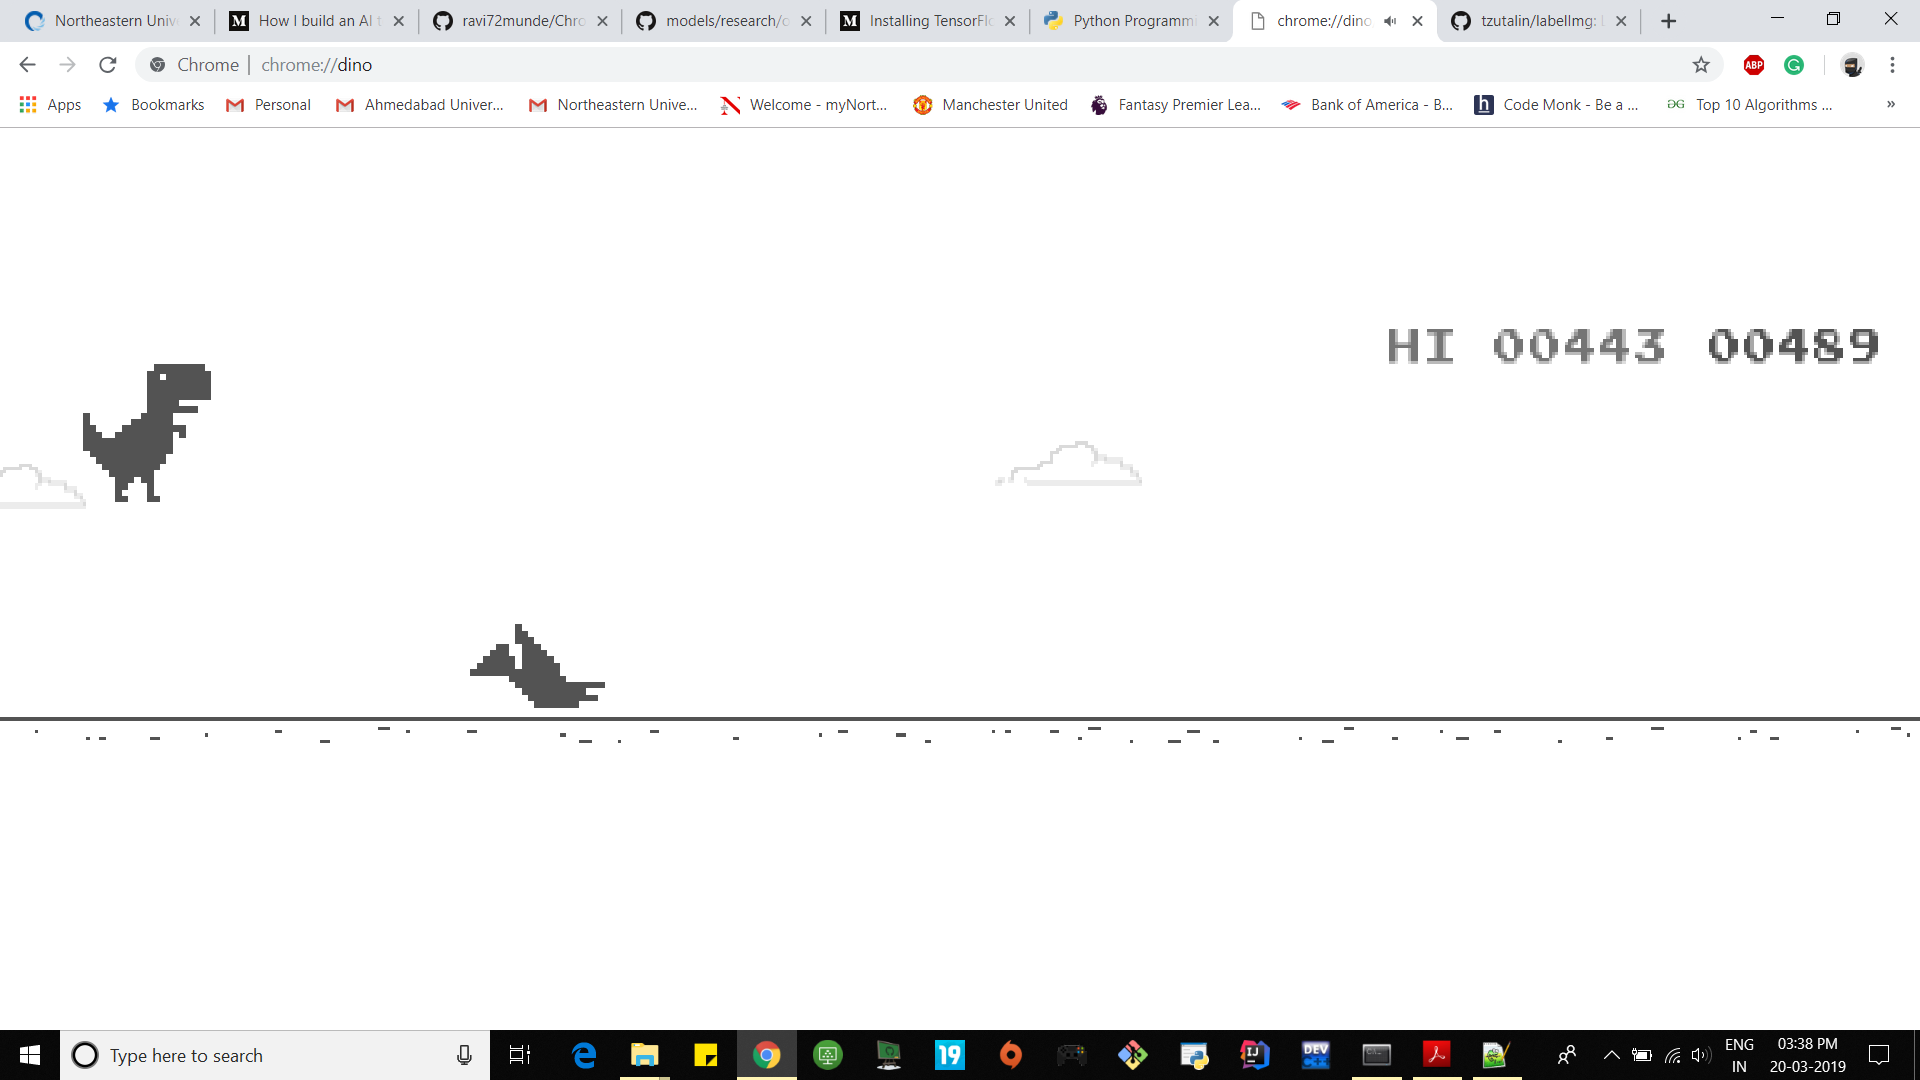bird: (465, 622, 607, 713)
dino: (83, 363, 212, 506)
